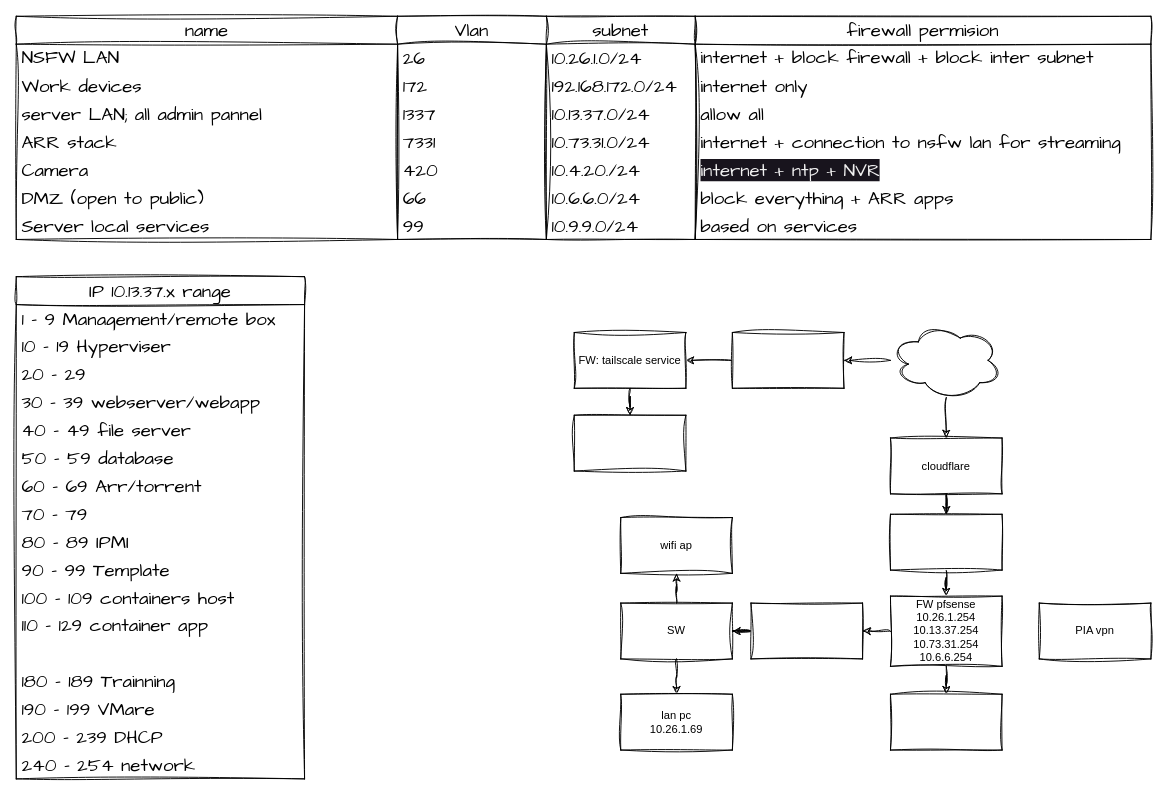
The diagram is 1167 pixels wide and 795 high, and some of its shapes have lost their labels. The centre of each missing label's shape, as x and y in pixels:
"Home lan 10.26.1.0" belongs at [806,630].
"Internet" belongs at [946,360].
"lan access" belongs at [629,442].
"public ip x.x.x.x" belongs at [946,541].
"server lan 10.13.37.0" belongs at [946,721].
"Tailscale mesh cloud" belongs at [787,360].
